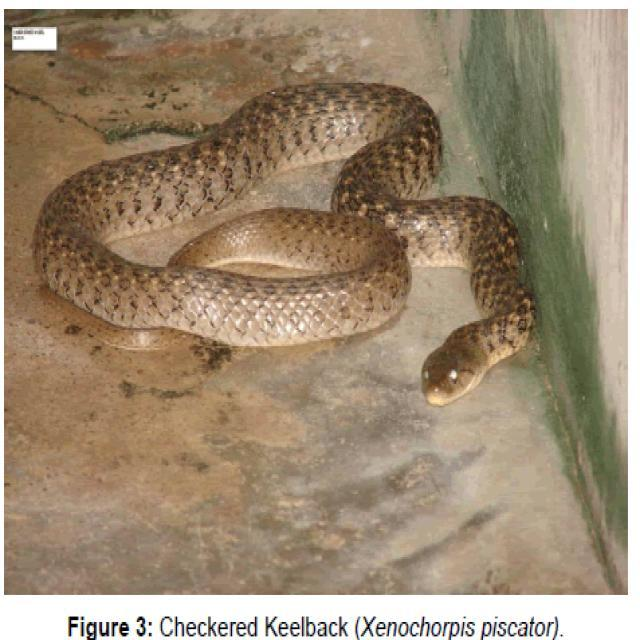Snake: (31, 80, 538, 408)
